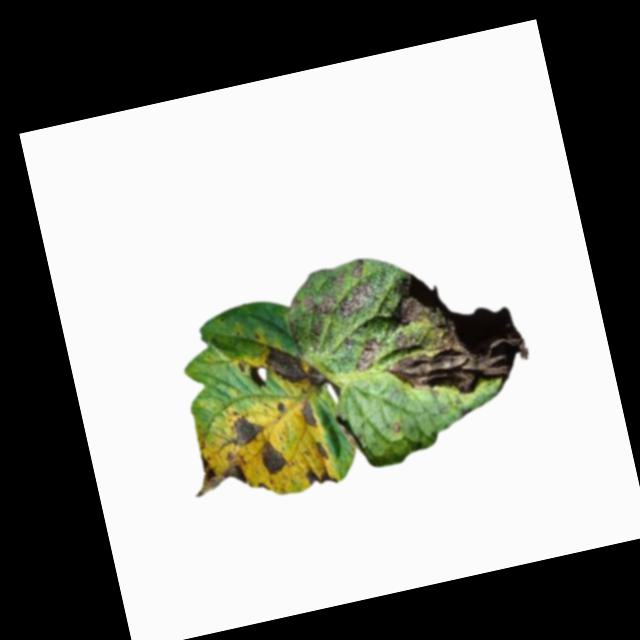Early_blight: (366, 252, 537, 409), (303, 258, 380, 325), (261, 335, 329, 401), (187, 447, 251, 501), (223, 412, 264, 451), (348, 336, 387, 376), (258, 438, 288, 479), (303, 464, 338, 491), (296, 399, 320, 432), (244, 365, 269, 394), (314, 440, 329, 463), (274, 400, 286, 413)
